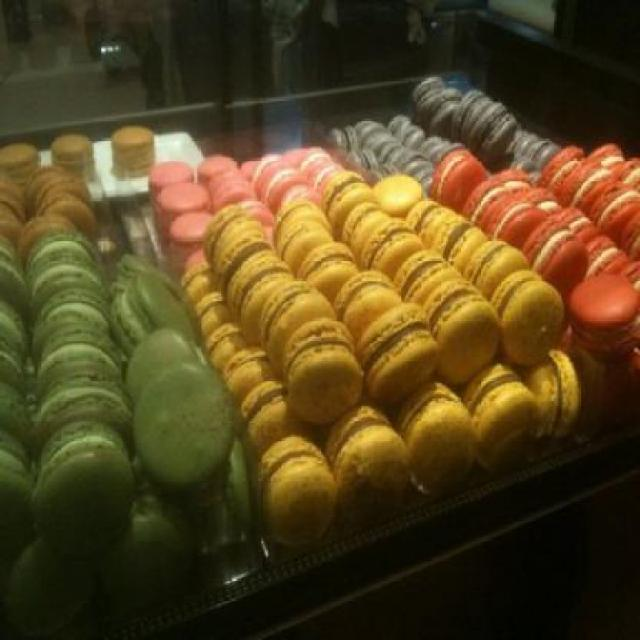Macaron: (0, 67, 638, 590)
